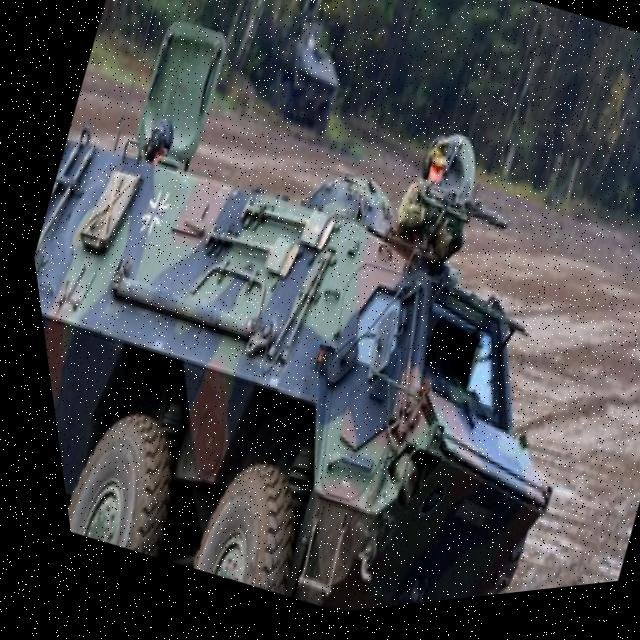MIL_APC: (8, 27, 640, 640)
